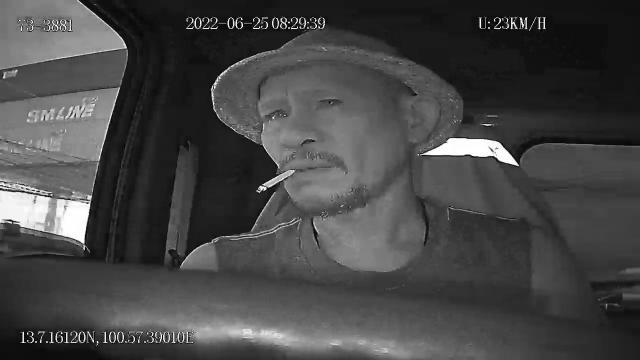SafeDriving: (310, 90, 348, 114), (260, 102, 294, 123)
Smoking: (257, 168, 297, 192)
